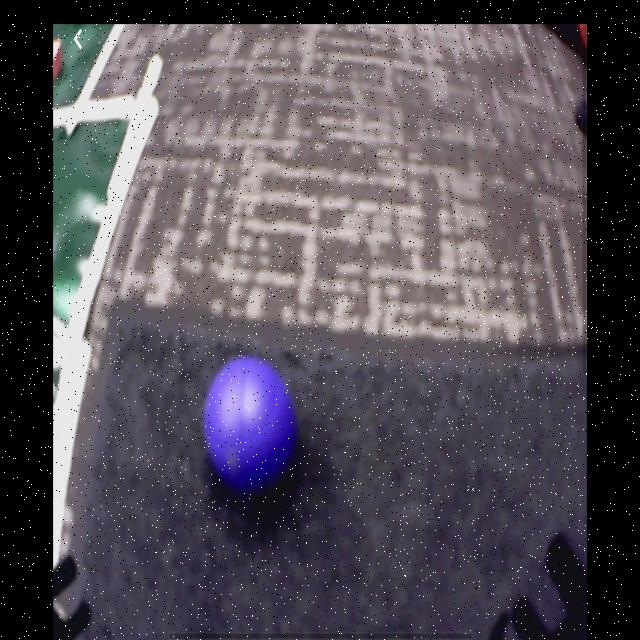ball: (204, 356, 297, 489)
